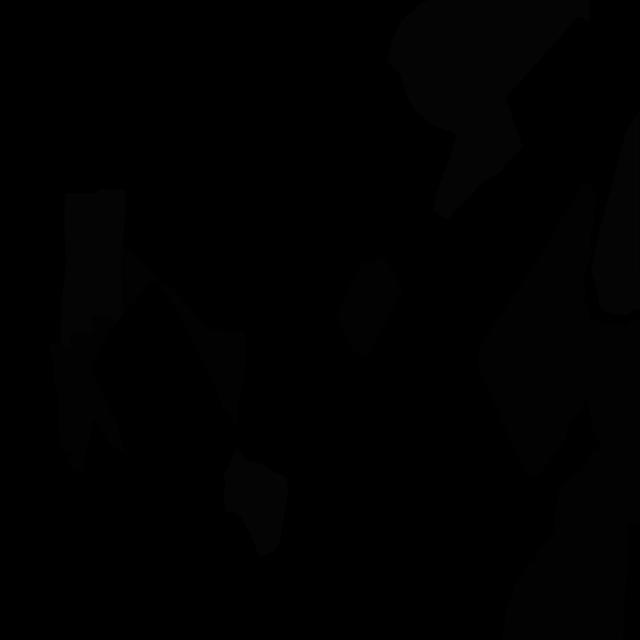cardboard: (478, 181, 598, 480), (502, 448, 628, 640), (570, 303, 640, 524), (49, 316, 126, 476), (121, 244, 211, 330), (336, 256, 403, 356), (188, 329, 246, 428)
soft_plastic: (388, 0, 590, 219), (60, 189, 127, 350), (591, 112, 640, 316), (223, 448, 288, 556)
